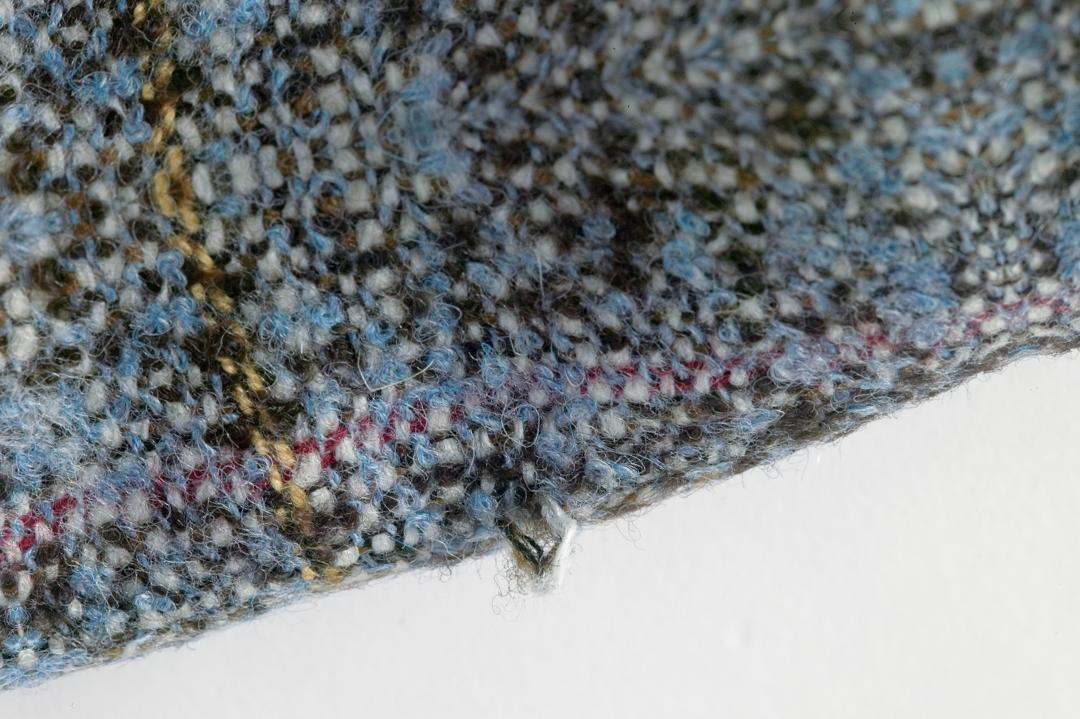snag: (465, 482, 598, 600)
